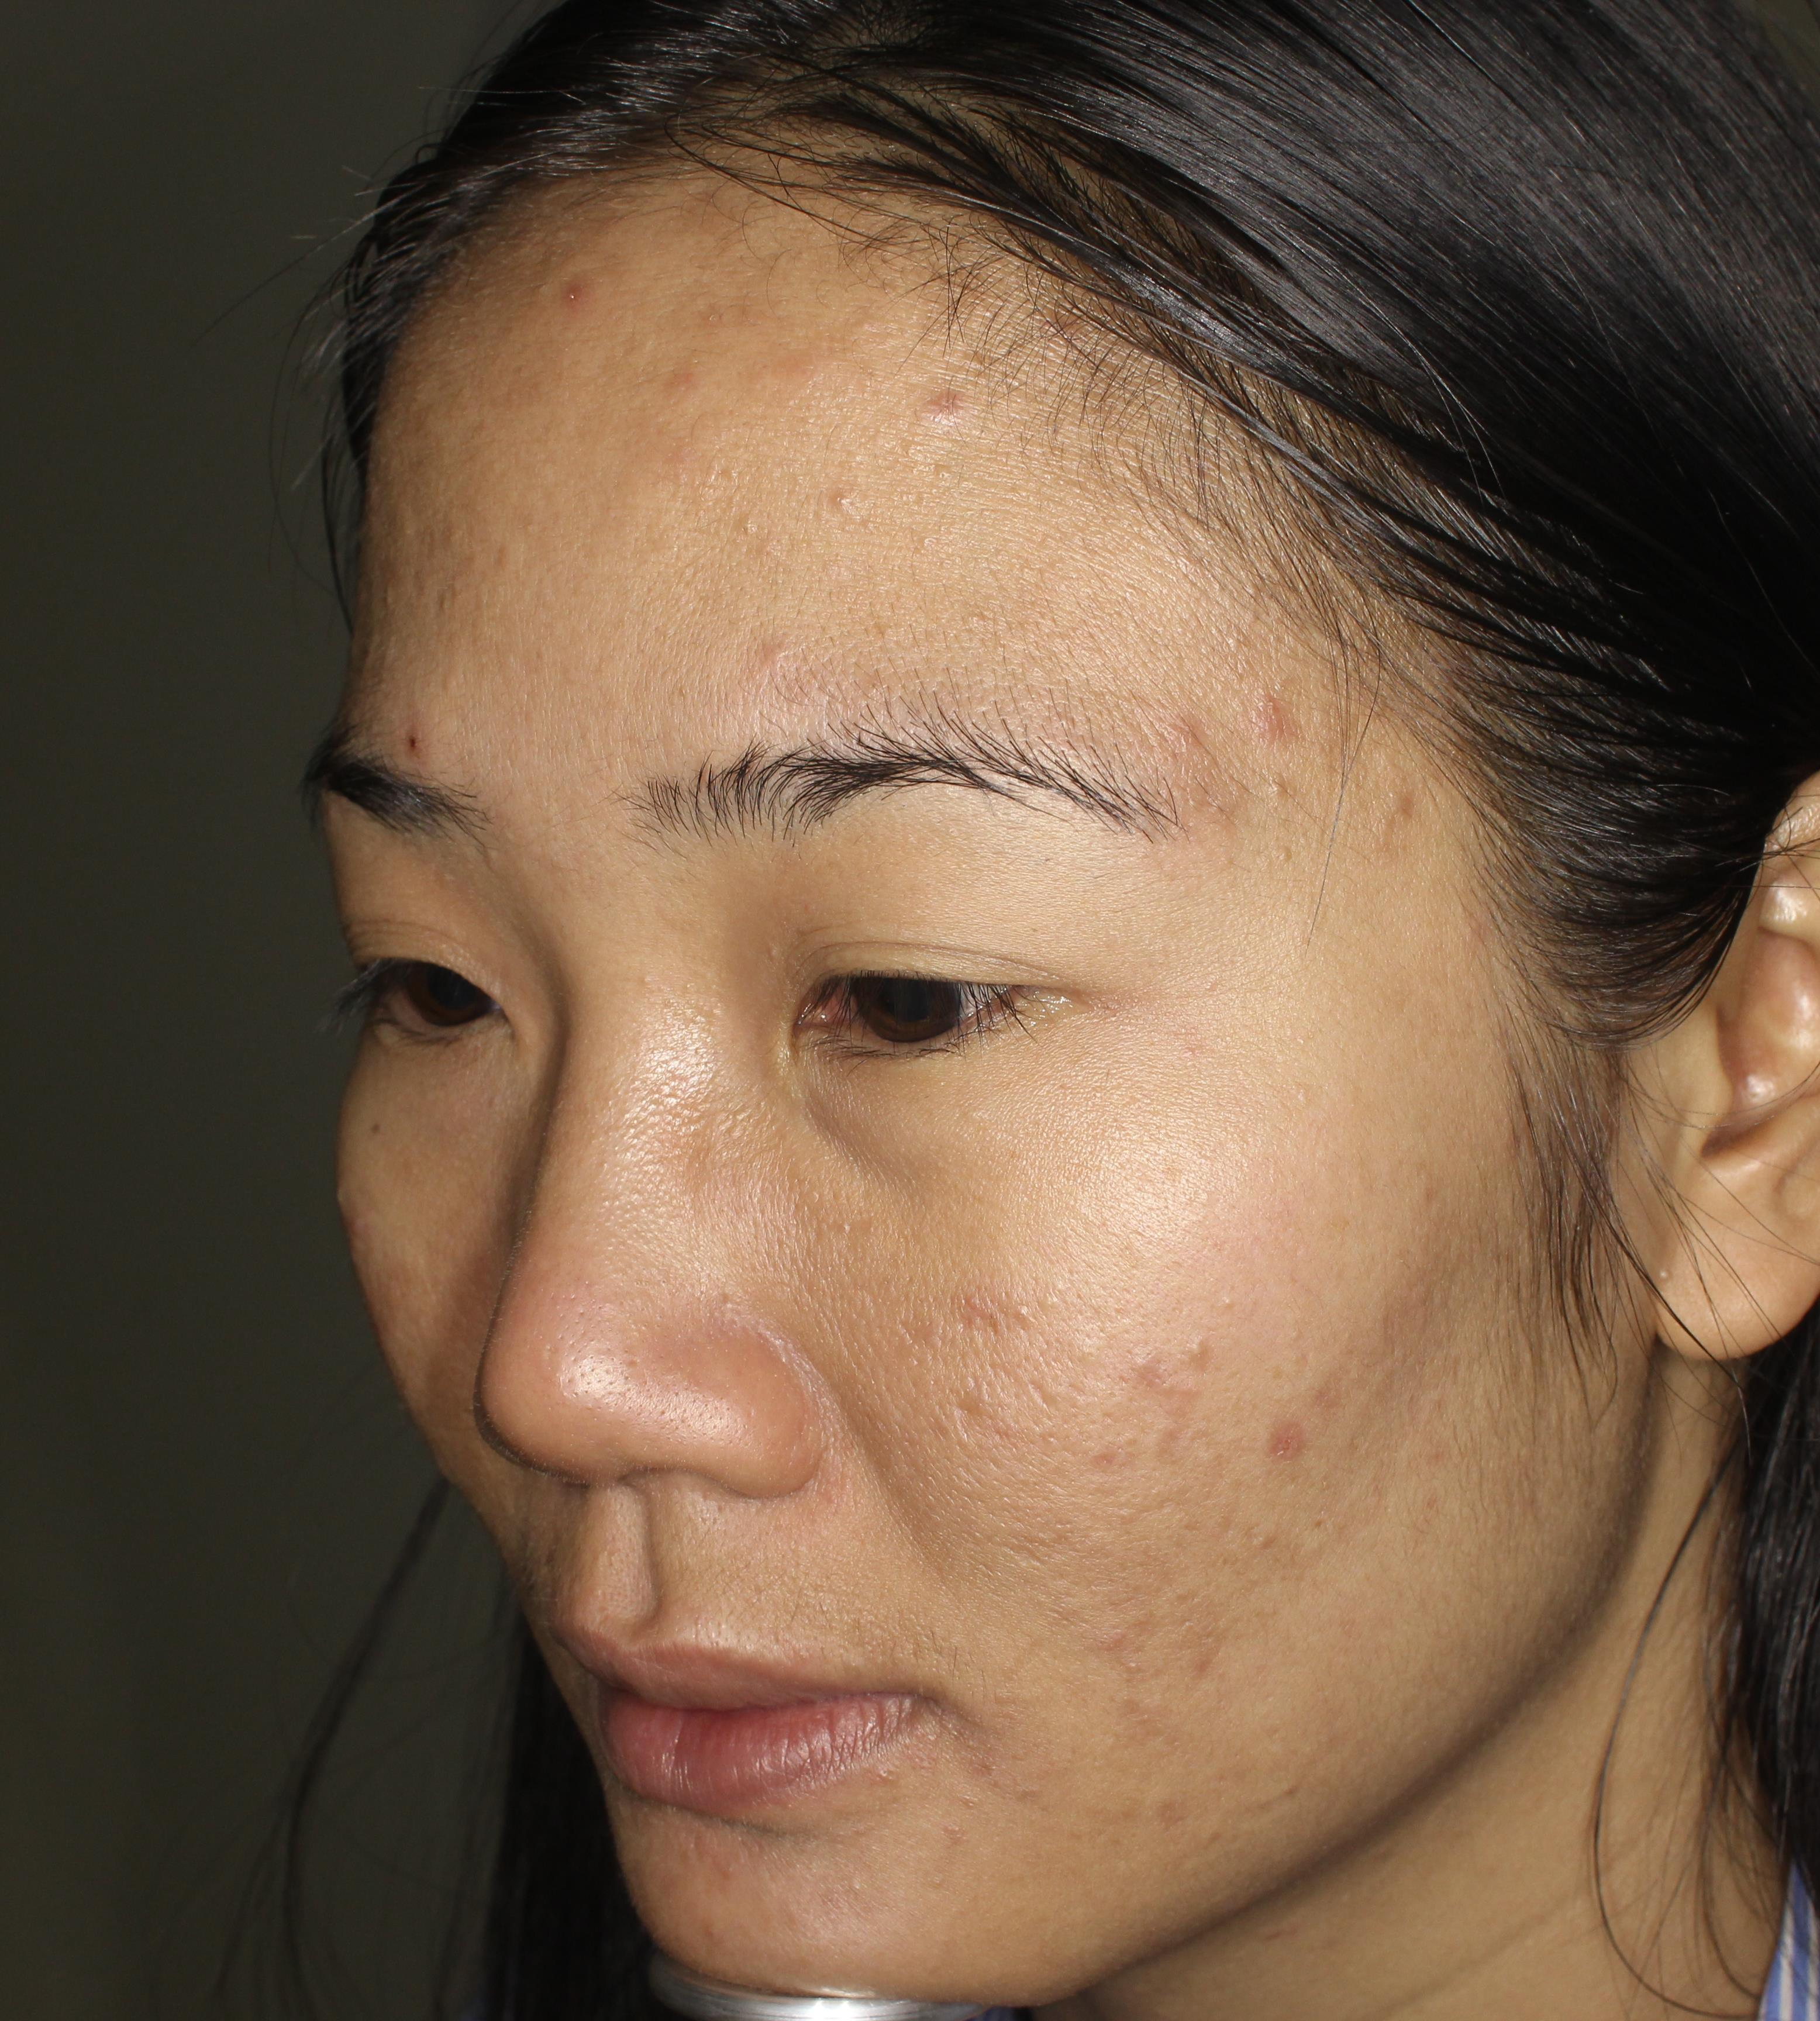fore: (1144, 716, 1242, 827), (1360, 760, 1449, 873), (1135, 1298, 1210, 1415), (1256, 1366, 1346, 1459), (921, 362, 991, 469), (1247, 685, 1319, 766)
